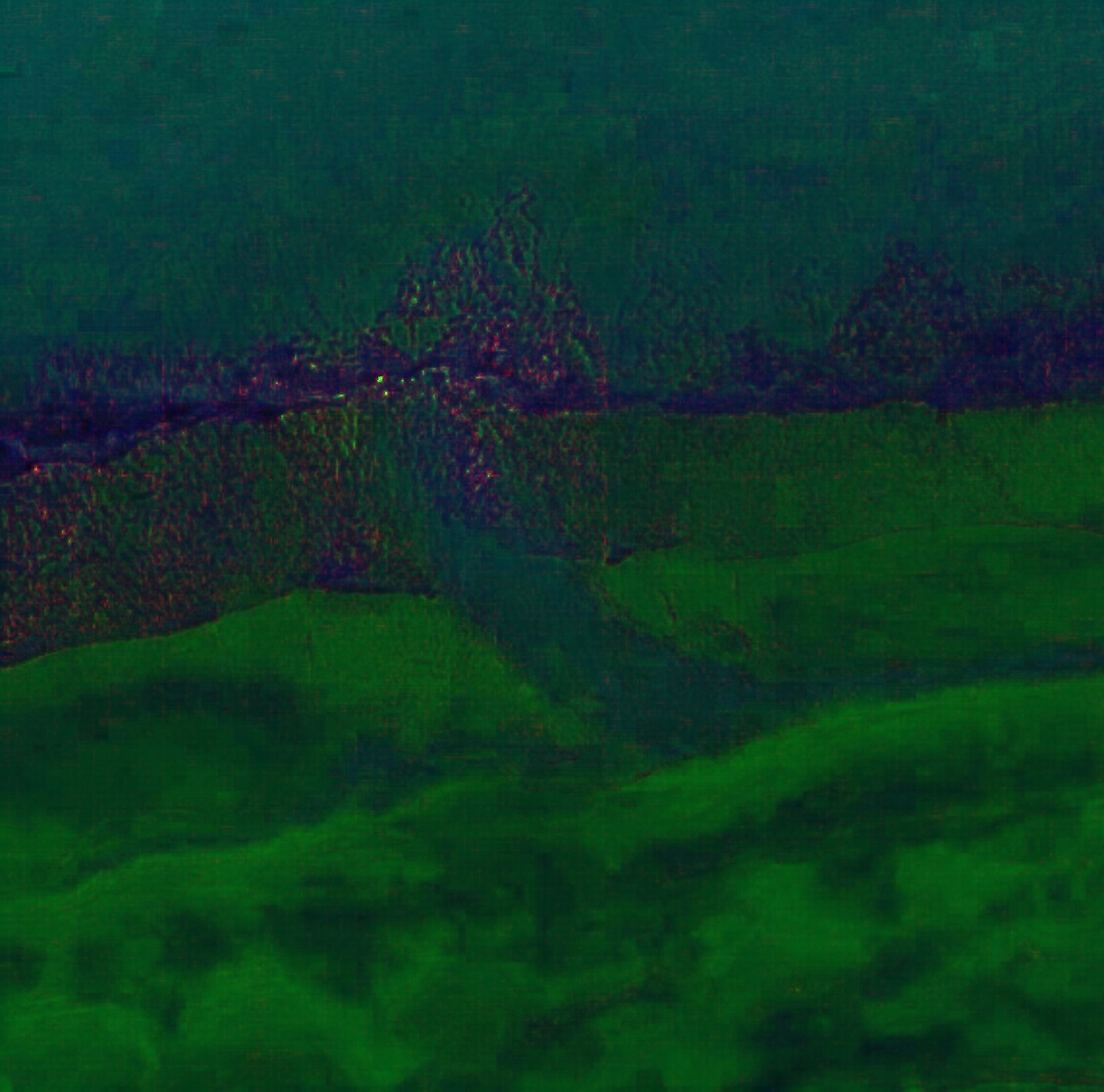rip_current: (271, 228, 641, 631)
